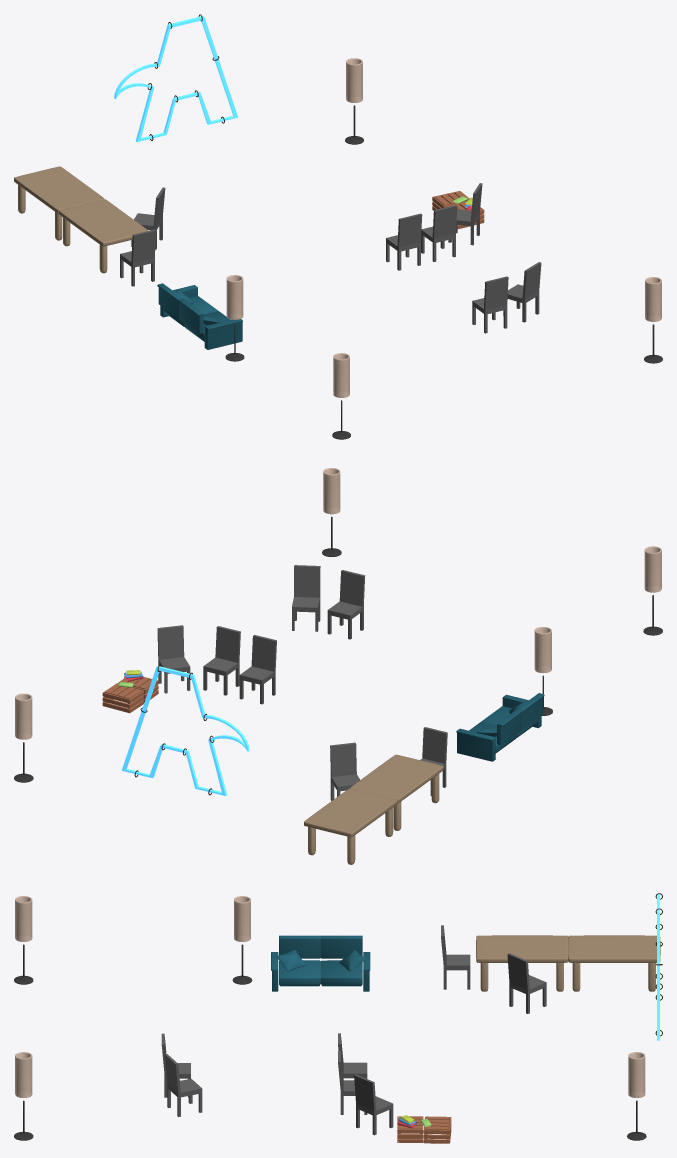
The model's file is 2x3Shape Sampleroom - Deko.glb.
The picture shows the model from 3 angles, top to bottom: view 1: azimuth 30°, elevation 25°; view 2: azimuth 150°, elevation 25°; view 3: azimuth 270°, elevation 25°; orthographic projection. The views are drawn at different scales.
Parts seen in each view (by area): view 1: Deko_2x3_Shape; view 2: Deko_2x3_Shape; view 3: Deko_2x3_Shape.
Boxes of the visible parts, bbox=[...] form: Deko_2x3_Shape: bbox=[14, 14, 662, 439]; Deko_2x3_Shape: bbox=[14, 468, 662, 864]; Deko_2x3_Shape: bbox=[14, 893, 662, 1143].
Bounding box in the file's own units: 7.97 × 3.37 × 12.65.
15 materials, 1 textured.
